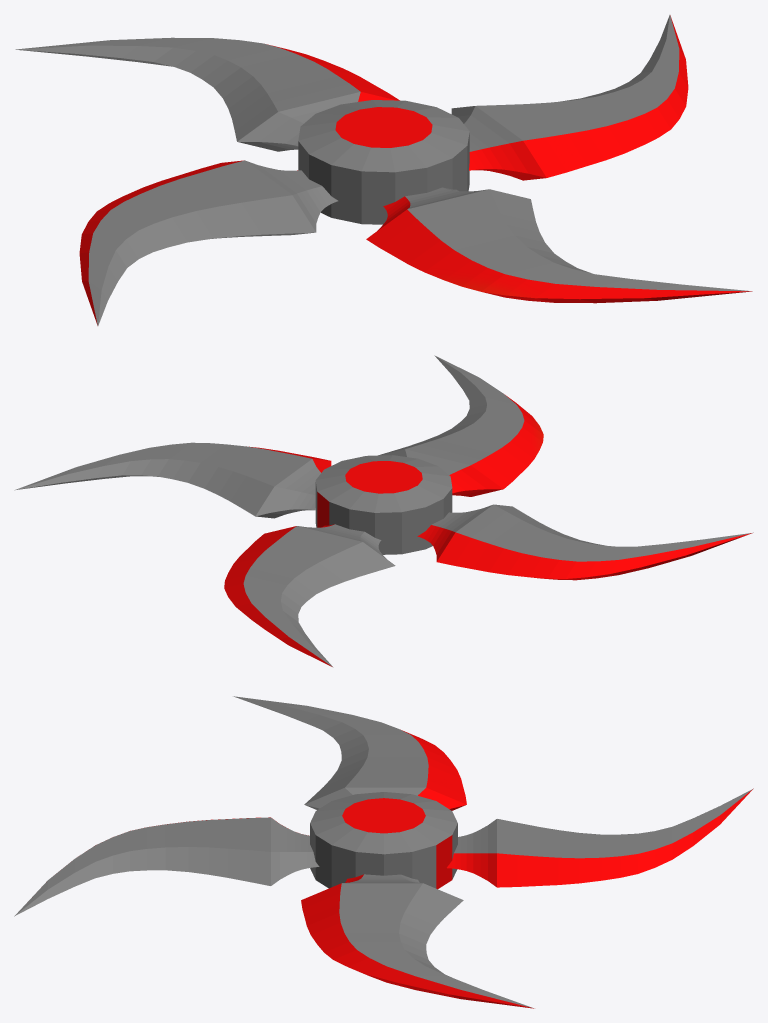
Rendered from Beyblade_Upgraded_Blade_Fire.fbx.
3 renders of one model, top to bottom at view 1: azimuth 30°, elevation 25°; view 2: azimuth 150°, elevation 25°; view 3: azimuth 270°, elevation 25°, orthographic. The views are drawn at different scales.
Visible parts, largest first — view 1: Circle.001; view 2: Circle.001; view 3: Circle.001.
Boxes of the visible parts, x1=… form: Circle.001: x1=15, y1=15, x2=752, y2=325; Circle.001: x1=14, y1=355, x2=753, y2=667; Circle.001: x1=14, y1=696, x2=753, y2=1008.
Bounding box in the file's own units: 394 × 35.77 × 394.
1 material, 1 textured.
